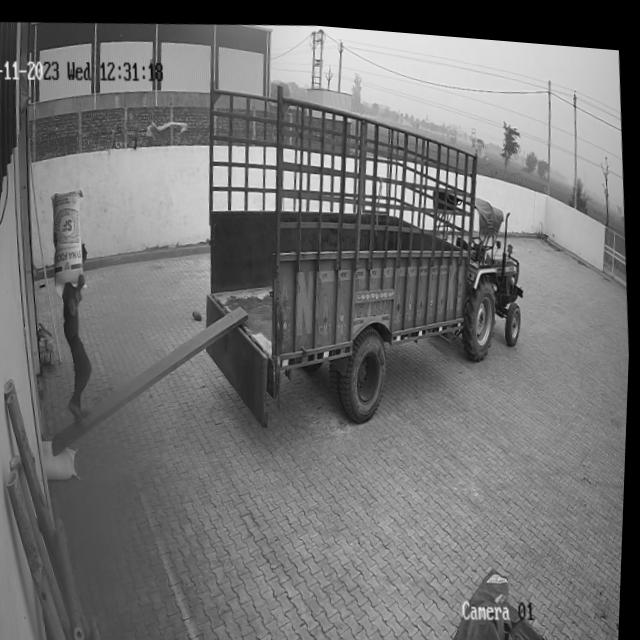sack: (48, 186, 91, 299), (43, 434, 82, 480)
